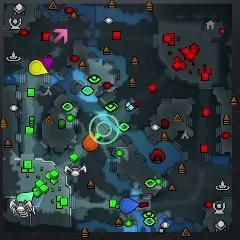p1: (120, 198, 138, 213)
p2: (17, 191, 34, 201)
p3: (39, 57, 52, 70)
p4: (29, 60, 48, 75)
p5: (82, 130, 99, 150)
x1: (53, 27, 68, 44)
